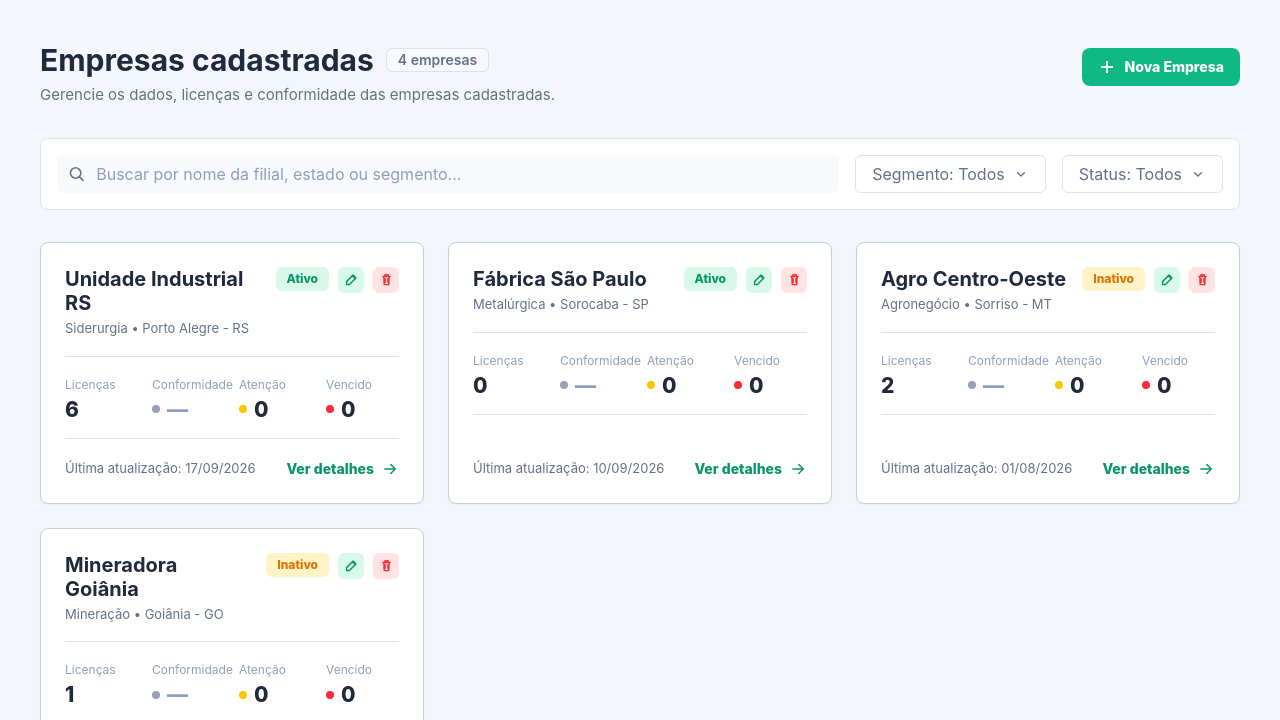
AdminCompaniesPage filters › restores the full listing when the filters are cleared
The width and height of the screenshot is (1280, 720).
Expected: the element "Unidade Industrial RS" is shown, [40,242,424,504]
Type "goiania" into the search field named "buscar empresas".
click(463, 174); type("goiania")  # box [96,162,829,186]
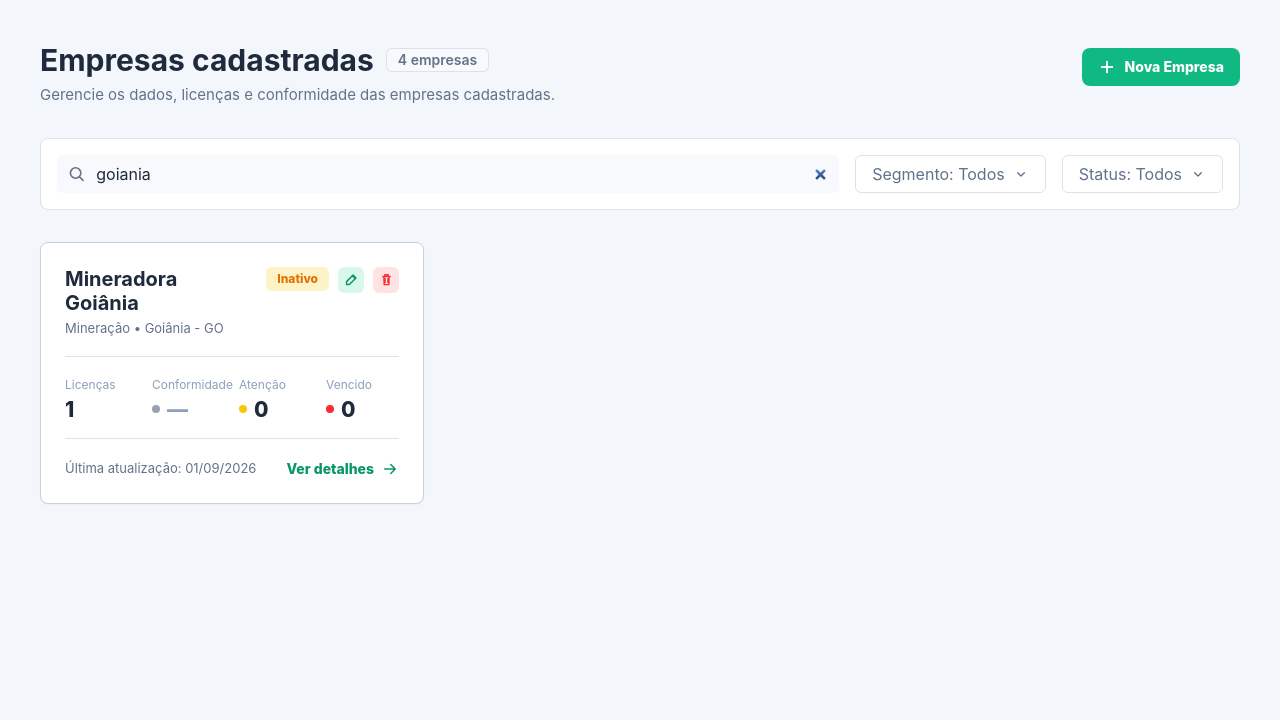
Click the button "Status: Todos".
click(1142, 174)  # box [1062,155,1223,193]
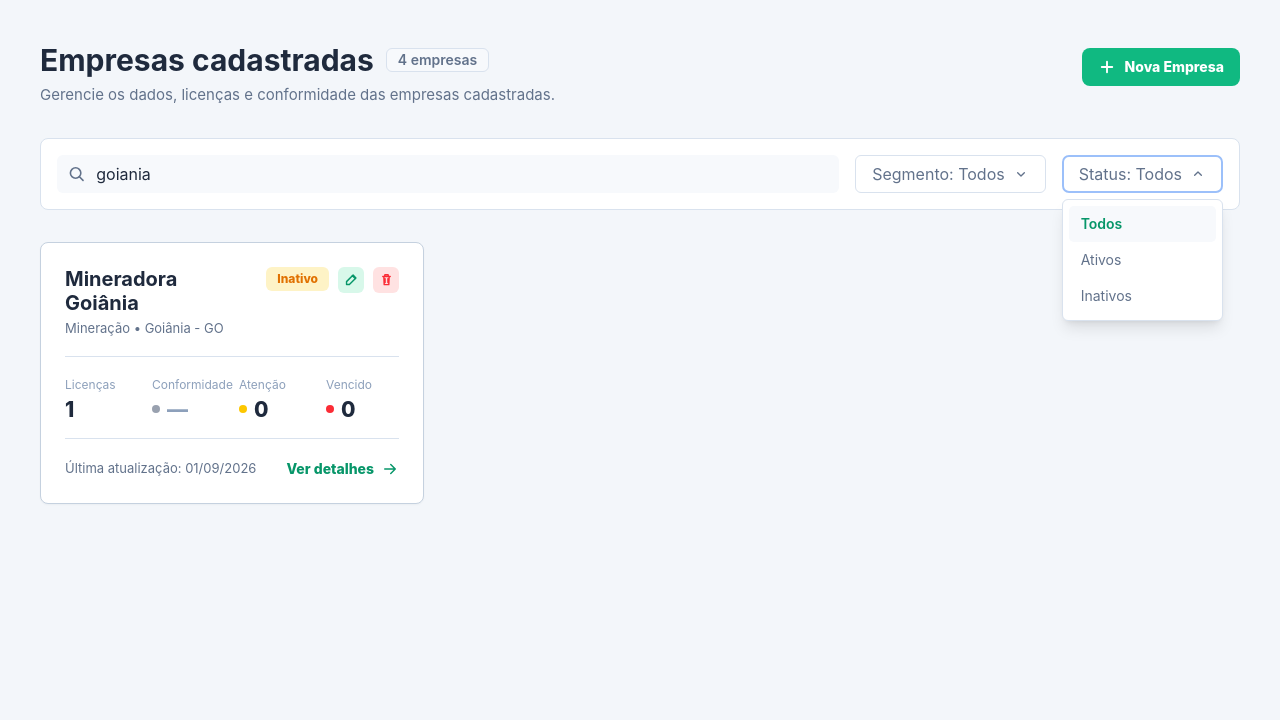
Click the option "Ativos".
click(1142, 260)  # box [1069,242,1216,278]
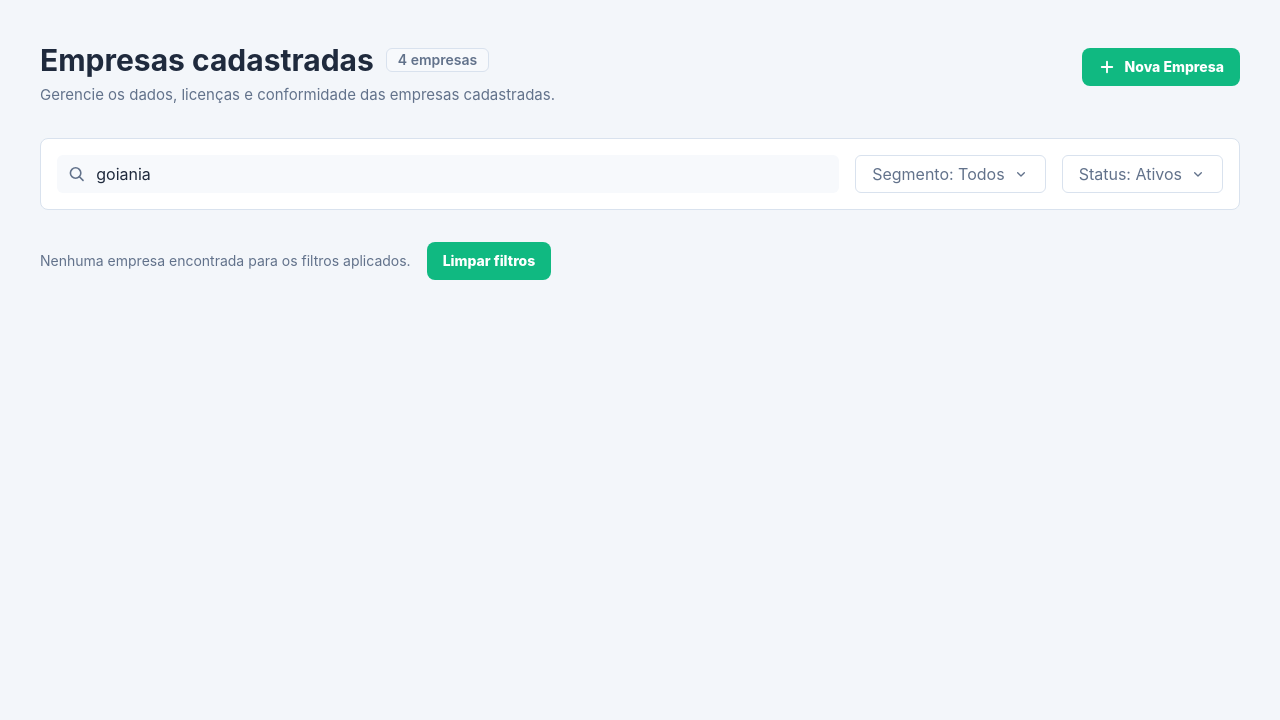
Result: the text "Nenhuma empresa encontrada para os filtros aplicados." is shown at [40,251,411,271]
Click the button "Limpar filtros".
click(489, 261)  # box [427,242,551,280]
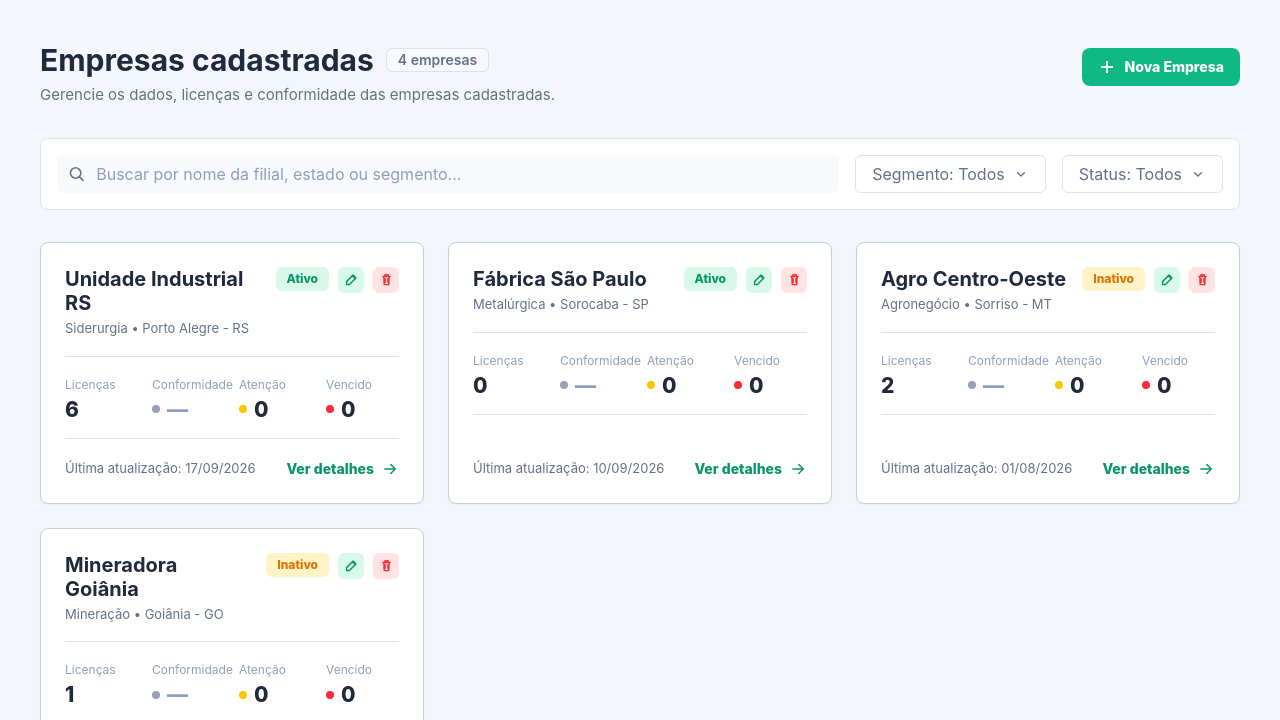
Result: the search field named "buscar empresas" is empty at [96,162,829,186]
Result: the button "Status: Todos" is shown at [1062,155,1223,193]
Result: the text "Nenhuma empresa encontrada para os filtros" is gone
